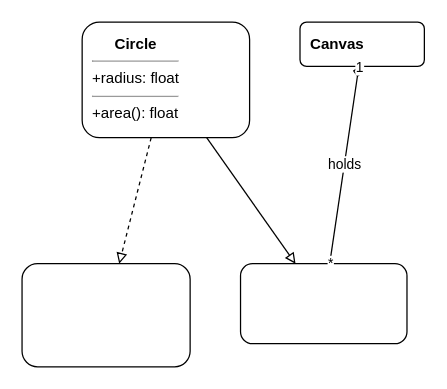
Image size: 447x389. Some labels were removed from this diagram. Each missing label, with the centre of its shape:
Shape +area(): float: the point at 323,303
«interface» Drawable +draw(): void: the point at 105,314
